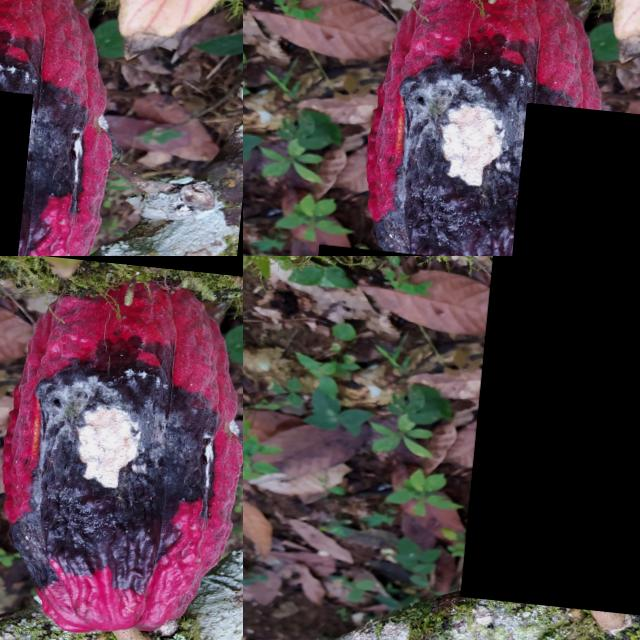Monilia: (467, 256, 640, 610), (2, 382, 137, 532)
Sana: (495, 94, 640, 256), (0, 341, 60, 498), (0, 74, 36, 256), (86, 568, 105, 604), (192, 588, 211, 616), (231, 570, 243, 595), (231, 626, 243, 640)
